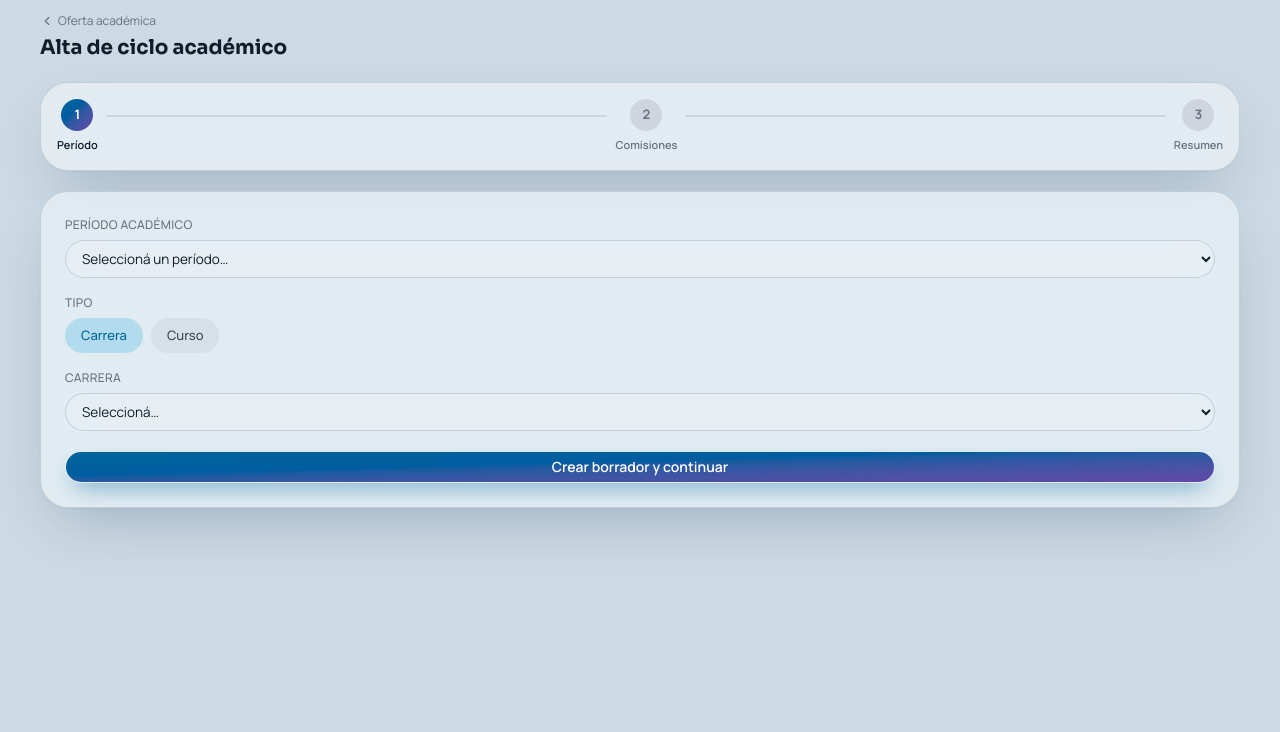
Test case: PreceptorNuevoCiclo › explains how to resume when a cycle for that period is already in progress
Select "Ciclo lectivo 2027" in the dropdown labelled "Período académico": (640, 258) [65, 240, 1215, 278]
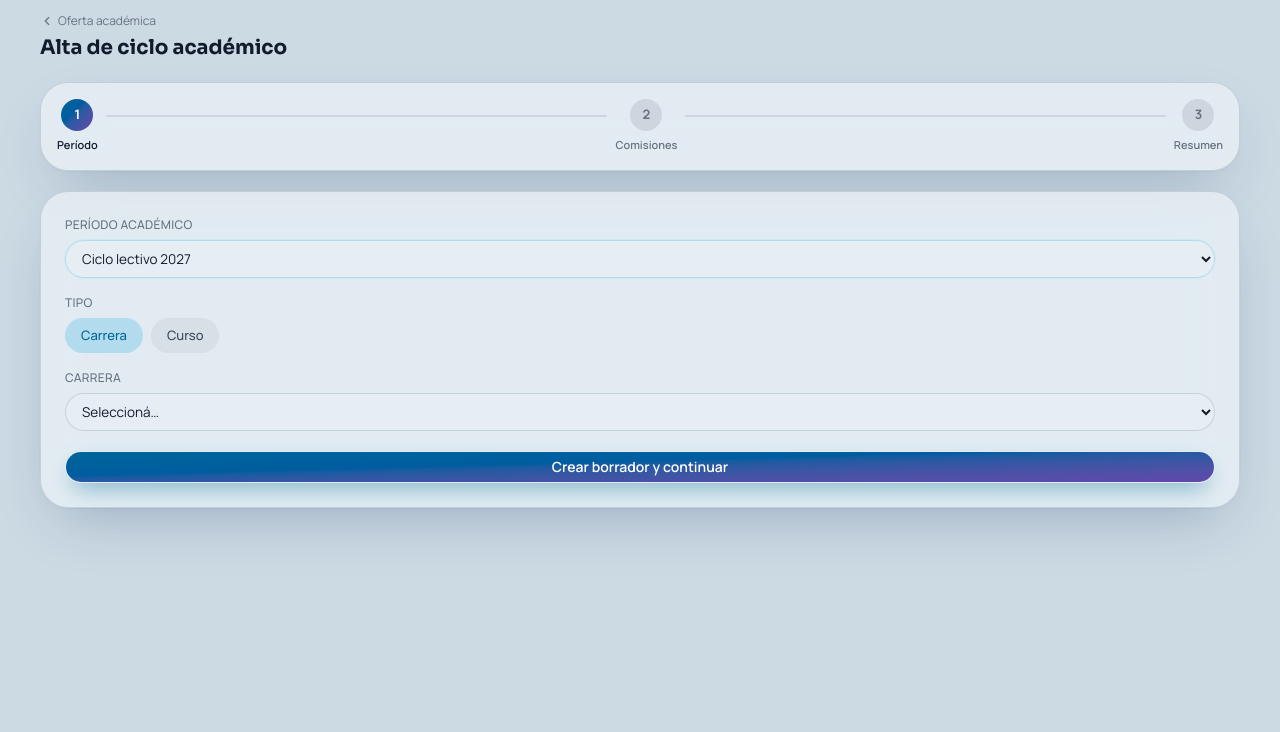
Select "Enfermería" in the dropdown labelled "Carrera": (640, 412) [65, 393, 1215, 431]
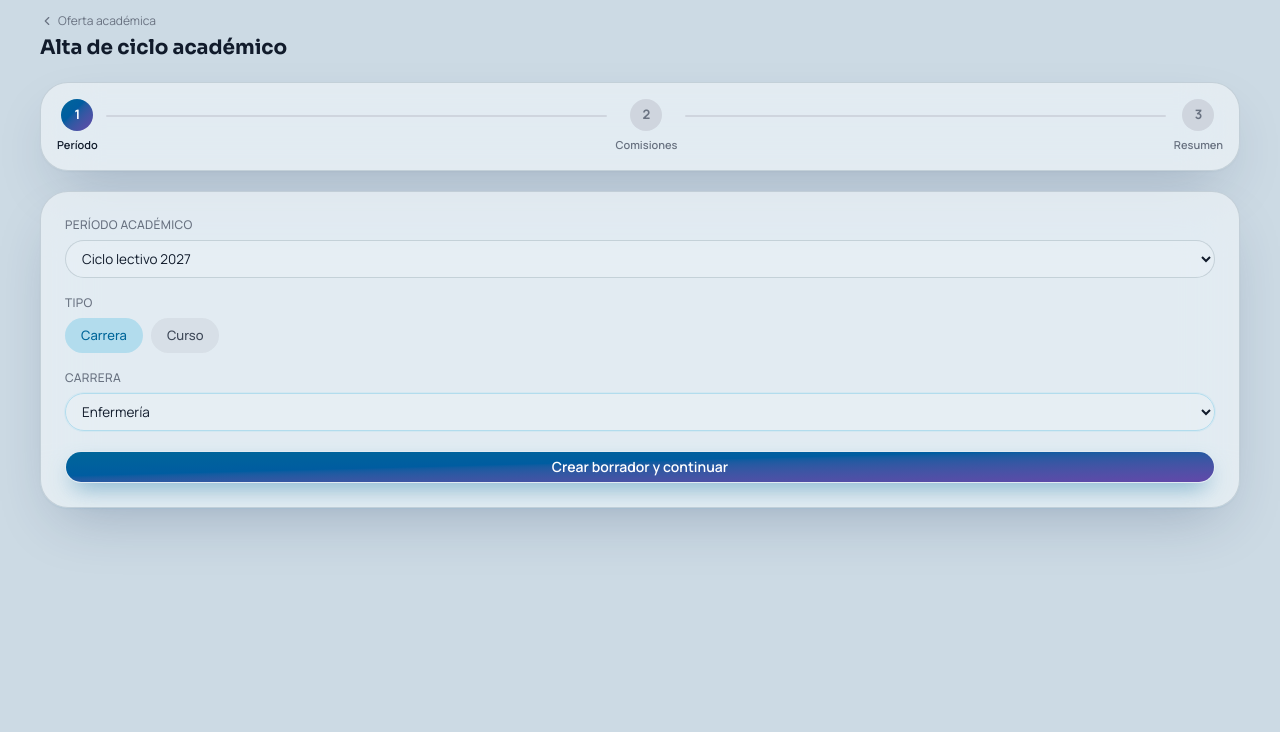
Click the button "Crear borrador y continuar": (640, 467) [65, 451, 1215, 483]
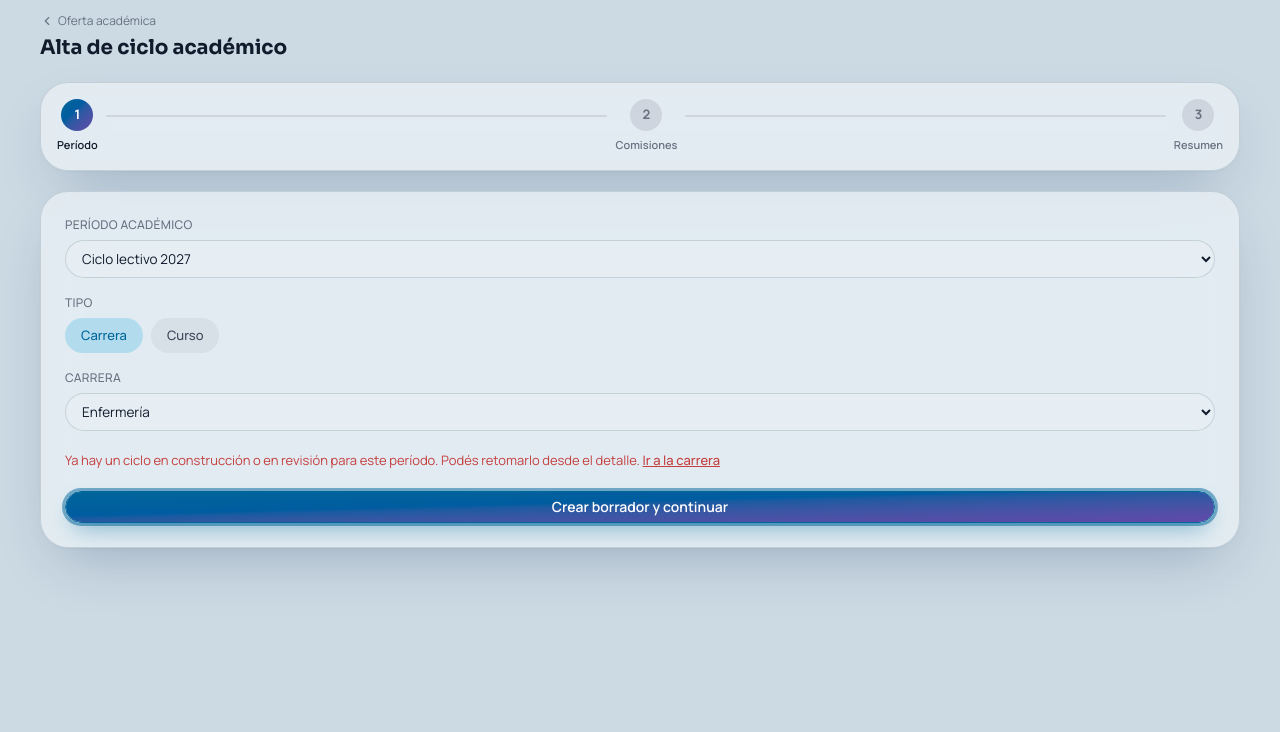
Result: the text "Ya hay un ciclo en construcción o en revisión para este período" is shown at [65, 451, 640, 469]
